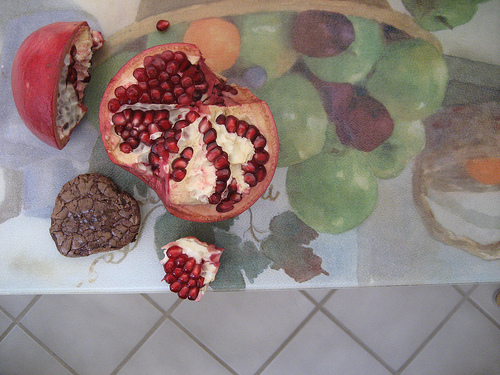pomogranate: (98, 43, 281, 225), (9, 18, 102, 149), (159, 244, 227, 300)
